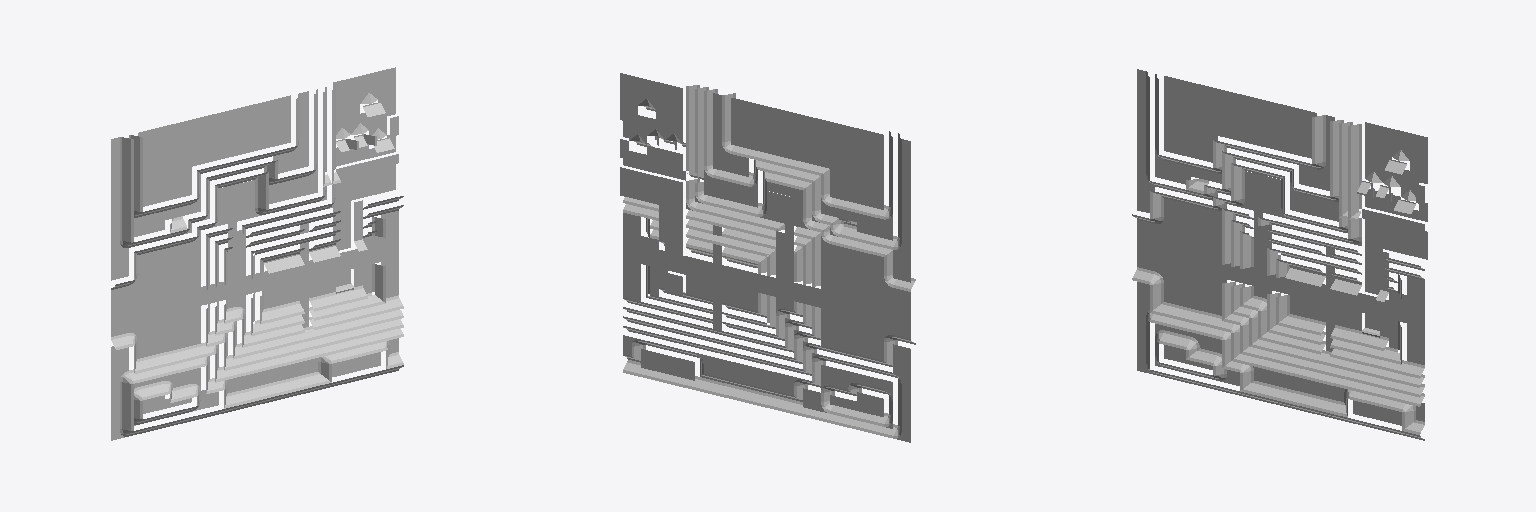
File: Plat_full_14_10.obj
3 renders of one model, left to right at view 1: azimuth 30°, elevation 25°; view 2: azimuth 150°, elevation 25°; view 3: azimuth 330°, elevation 25°, orthographic.
Visible parts, largest first — view 1: map; view 2: map; view 3: map.
Boxes of the visible parts, box(x1,y1,x2,y2) form: map: box(111, 67, 403, 440); map: box(620, 73, 915, 442); map: box(1132, 69, 1427, 440).
Size of the model in its own units: 32 by 32 by 1.5.